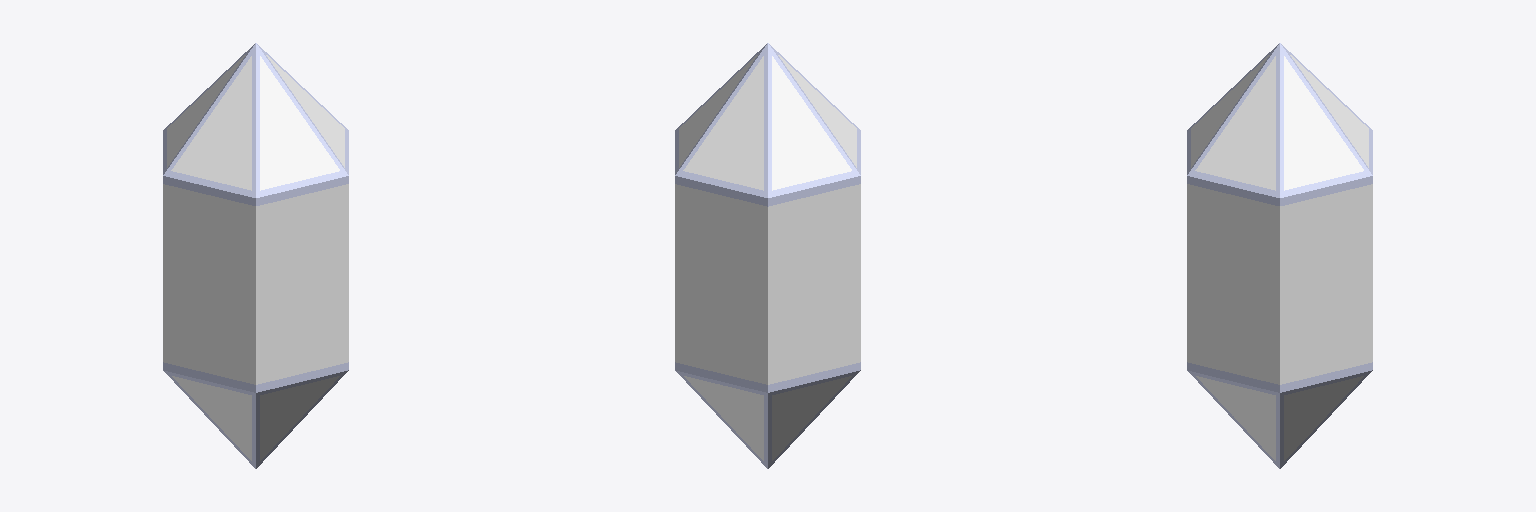
The picture shows the model from 3 angles: view 1: azimuth 30°, elevation 25°; view 2: azimuth 150°, elevation 25°; view 3: azimuth 270°, elevation 25°; orthographic projection.
Visible parts, largest first — view 1: pPrism1; view 2: pPrism1; view 3: pPrism1.
Boxes of the visible parts, <box> form: pPrism1: <box>163,43,348,468</box>; pPrism1: <box>675,43,860,468</box>; pPrism1: <box>1187,43,1372,468</box>.
Size of the model in its own units: 2 by 4.39 by 1.73.
Materials: 1 (1 with a texture image).